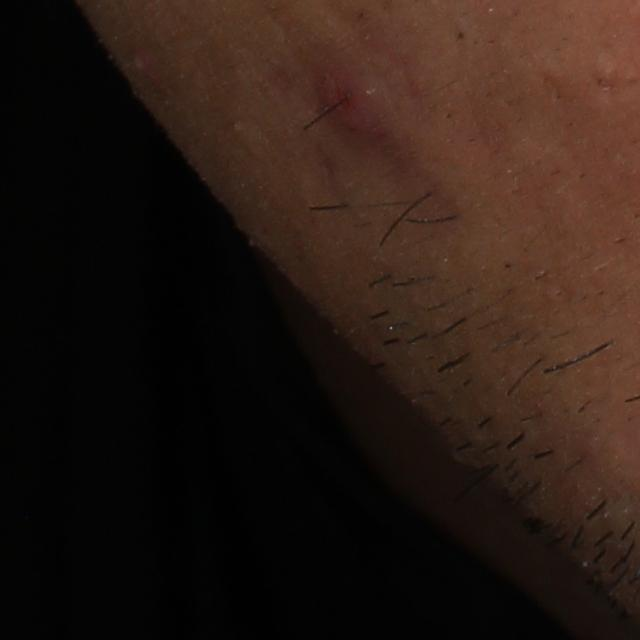papule: (316, 75, 384, 151)
